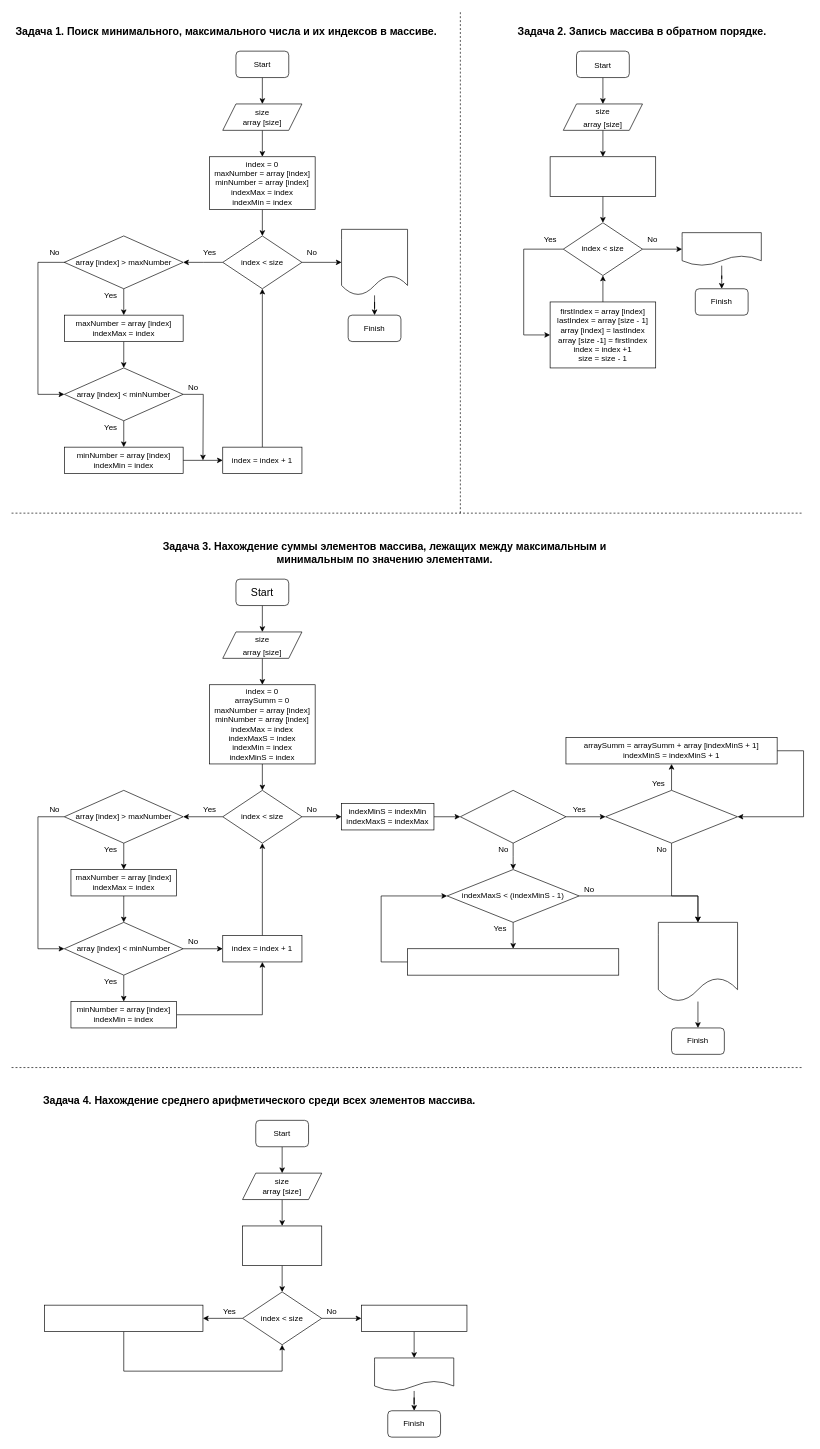
The diagram is 820 pixels wide and 1449 high, and some of its shapes have lost their labels. The shapes that lost their labels are listed below. From the top down, each one's centre as x and y in pixels, then its label:
point 602,176: index = 0 firstIndex = 0 lastIndex = 0
point 374,262: maxNumber minNumber indexMax indexMin
point 721,249: array
point 513,816: indexMaxS > indexMinS
point 671,816: indexMinS < (indexMaxS - 1)
point 513,961: arraySumm = arraySumm + array [indexMaxS + 1] indexMaxS = indexMaxS + 1
point 698,962: maxNumber minNumber indexMax indexMin arraySumm
point 282,1245: index = 0 arraySumm = 0 average = 0
point 123,1318: arraySumm = arraySumm + array [index] index = index + 1
point 414,1318: average = arraySumm / size
point 414,1374: average
